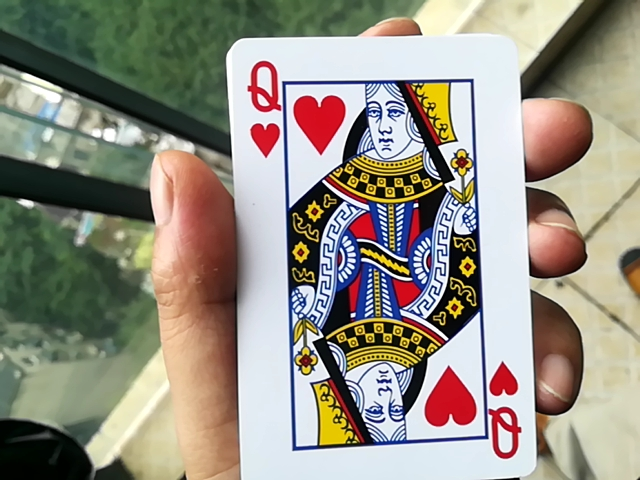hx q: (206, 31, 553, 478)
